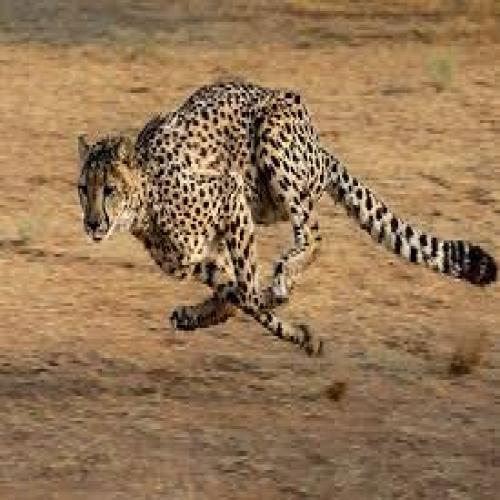cheetah-endangered: (69, 73, 500, 350)
